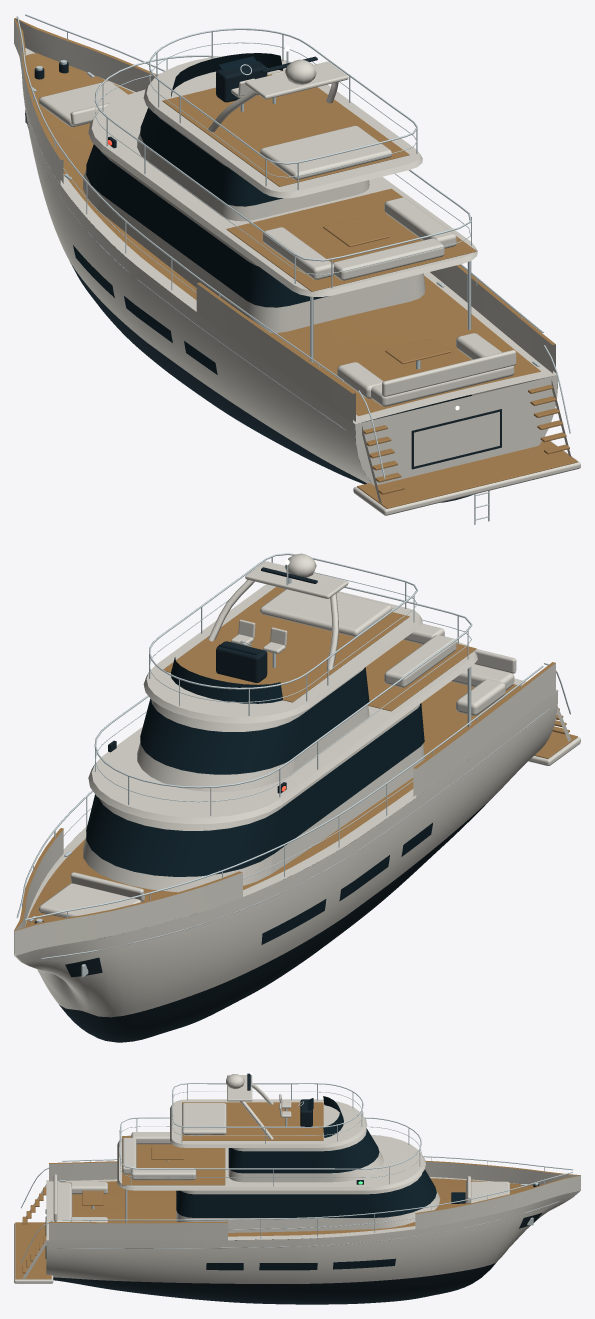
Rendered from superyacht-low.glb.
3 renders of one model, top to bottom at view 1: azimuth 30°, elevation 25°; view 2: azimuth 150°, elevation 25°; view 3: azimuth 270°, elevation 25°, orthographic. The views are drawn at different scales.
Parts seen in each view (by area): view 1: v4-ivory-gelcoat, v4-teak, v4-dark-glazing, v4-stainless, v4-navy-boot; view 2: v4-ivory-gelcoat, v4-dark-glazing, v4-teak, v4-navy-boot, v4-stainless; view 3: v4-ivory-gelcoat, v4-teak, v4-dark-glazing, v4-navy-boot, v4-stainless.
Part boxes in pixels (x1=…): v4-ivory-gelcoat: x1=14, y1=18, x2=580, y2=515; v4-teak: x1=14, y1=18, x2=577, y2=508; v4-dark-glazing: x1=73, y1=53, x2=327, y2=374; v4-stainless: x1=16, y1=14, x2=570, y2=524; v4-navy-boot: x1=25, y1=56, x2=501, y2=502; v4-ivory-gelcoat: x1=14, y1=553, x2=580, y2=1017; v4-dark-glazing: x1=86, y1=644, x2=432, y2=944; v4-teak: x1=14, y1=587, x2=577, y2=930; v4-navy-boot: x1=34, y1=567, x2=493, y2=1042; v4-stainless: x1=16, y1=553, x2=570, y2=977; v4-ivory-gelcoat: x1=14, y1=1074, x2=580, y2=1283; v4-teak: x1=15, y1=1102, x2=580, y2=1279; v4-dark-glazing: x1=176, y1=1096, x2=465, y2=1270; v4-navy-boot: x1=45, y1=1073, x2=542, y2=1304; v4-stainless: x1=21, y1=1075, x2=572, y2=1262.
Size of the model in its own units: 7.61 by 12.35 by 28.
